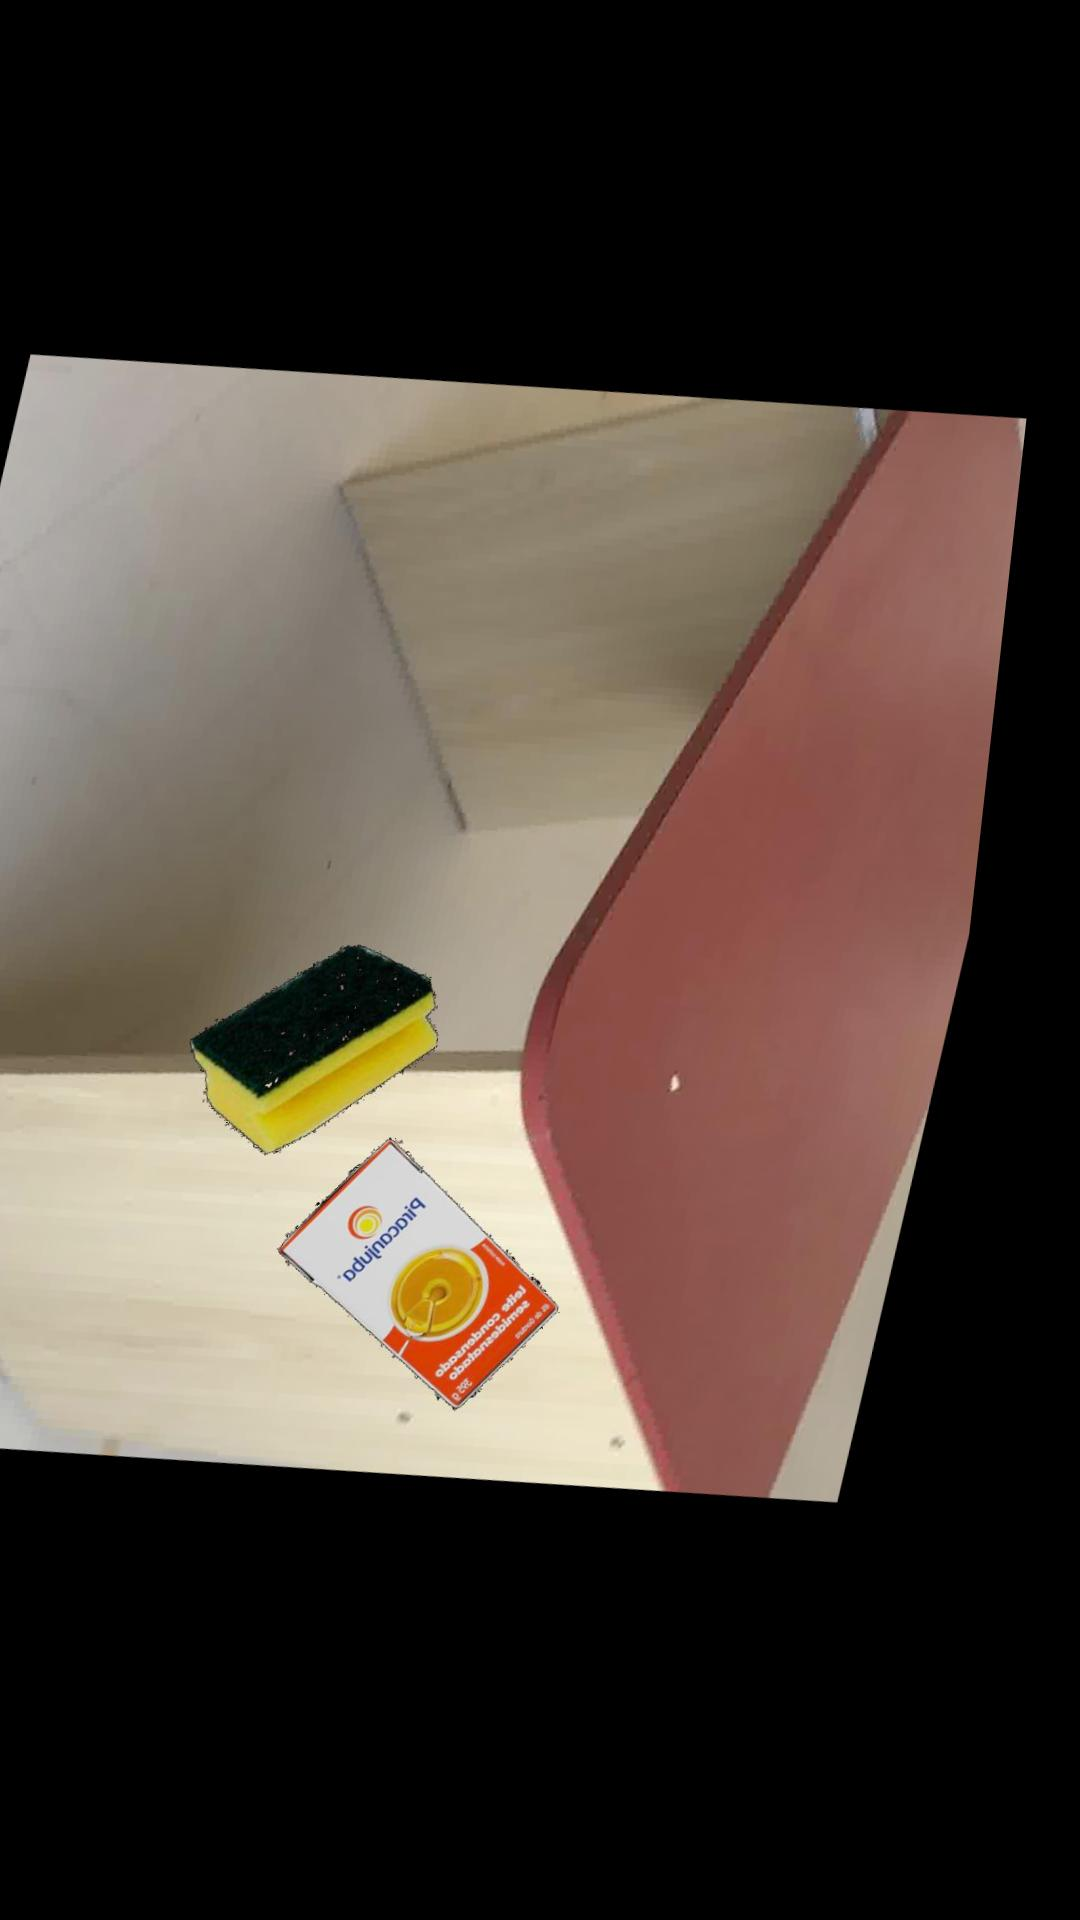sponge: (215, 949, 463, 1158)
